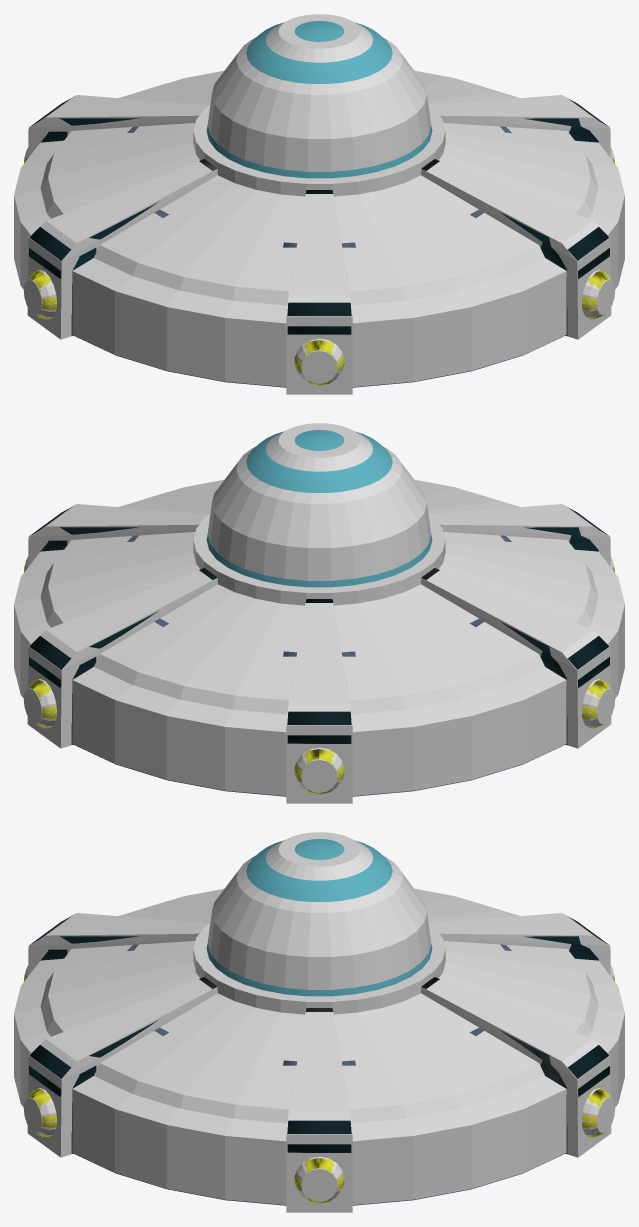
File: Deco_Flying_Saucer.glb
3 renders of one model, top to bottom at view 1: azimuth 30°, elevation 25°; view 2: azimuth 150°, elevation 25°; view 3: azimuth 270°, elevation 25°, orthographic.
Parts seen in each view (by area): view 1: Deco_SoucoupeBal_Collider_ConvexHull_01.001, Deco_SoucoupeBal_Collider_ConvexHull_01, Deco_SoucoupeBal_Collider_ConvexHull_02, Deco_SoucoupeBal_Collider_Compound, Deco_SoucoupeBal_Collider_ConvexHull_08, Deco_SoucoupeBal_Collider_ConvexHull_07, Deco_SoucoupeBal_Collider_ConvexHull_09, Deco_SoucoupeBal_Collider_ConvexHull_04, Deco_SoucoupeBal_Collider_ConvexHull_06, Deco_SoucoupeBal_Collider_ConvexHull_10, Deco_SoucoupeBal_Collider_ConvexHull_12, Deco_SoucoupeBal_Collider_ConvexHull_11 (+1 smaller); view 2: Deco_SoucoupeBal_Collider_ConvexHull_01.001, Deco_SoucoupeBal_Collider_ConvexHull_01, Deco_SoucoupeBal_Collider_ConvexHull_02, Deco_SoucoupeBal_Collider_Compound, Deco_SoucoupeBal_Collider_ConvexHull_06, Deco_SoucoupeBal_Collider_ConvexHull_05, Deco_SoucoupeBal_Collider_ConvexHull_07, Deco_SoucoupeBal_Collider_ConvexHull_04, Deco_SoucoupeBal_Collider_ConvexHull_10, Deco_SoucoupeBal_Collider_ConvexHull_08, Deco_SoucoupeBal_Collider_ConvexHull_16, Deco_SoucoupeBal_Collider_ConvexHull_11 (+1 smaller); view 3: Deco_SoucoupeBal_Collider_ConvexHull_01.001, Deco_SoucoupeBal_Collider_ConvexHull_01, Deco_SoucoupeBal_Collider_ConvexHull_02, Deco_SoucoupeBal_Collider_Compound, Deco_SoucoupeBal_Collider_ConvexHull_10, Deco_SoucoupeBal_Collider_ConvexHull_09, Deco_SoucoupeBal_Collider_ConvexHull_05, Deco_SoucoupeBal_Collider_ConvexHull_04, Deco_SoucoupeBal_Collider_ConvexHull_08, Deco_SoucoupeBal_Collider_ConvexHull_06, Deco_SoucoupeBal_Collider_ConvexHull_13, Deco_SoucoupeBal_Collider_ConvexHull_14 (+1 smaller).
Part boxes in pixels (left/top/right/bottom): Deco_SoucoupeBal_Collider_ConvexHull_01.001: left=40, top=70, right=598, bottom=305; Deco_SoucoupeBal_Collider_ConvexHull_01: left=14, top=83, right=624, bottom=386; Deco_SoucoupeBal_Collider_ConvexHull_02: left=207, top=14, right=431, bottom=171; Deco_SoucoupeBal_Collider_Compound: left=24, top=21, right=614, bottom=387; Deco_SoucoupeBal_Collider_ConvexHull_08: left=286, top=190, right=352, bottom=394; Deco_SoucoupeBal_Collider_ConvexHull_07: left=27, top=161, right=217, bottom=339; Deco_SoucoupeBal_Collider_ConvexHull_09: left=421, top=161, right=611, bottom=339; Deco_SoucoupeBal_Collider_ConvexHull_04: left=193, top=105, right=445, bottom=196; Deco_SoucoupeBal_Collider_ConvexHull_06: left=28, top=95, right=208, bottom=157; Deco_SoucoupeBal_Collider_ConvexHull_10: left=430, top=95, right=610, bottom=157; Deco_SoucoupeBal_Collider_ConvexHull_12: left=294, top=338, right=344, bottom=385; Deco_SoucoupeBal_Collider_ConvexHull_11: left=23, top=270, right=56, bottom=318; Deco_SoucoupeBal_Collider_ConvexHull_01.001: left=40, top=479, right=598, bottom=714; Deco_SoucoupeBal_Collider_ConvexHull_01: left=14, top=492, right=624, bottom=795; Deco_SoucoupeBal_Collider_ConvexHull_02: left=207, top=423, right=431, bottom=580; Deco_SoucoupeBal_Collider_Compound: left=24, top=430, right=614, bottom=796; Deco_SoucoupeBal_Collider_ConvexHull_06: left=286, top=599, right=352, bottom=803; Deco_SoucoupeBal_Collider_ConvexHull_05: left=27, top=570, right=217, bottom=748; Deco_SoucoupeBal_Collider_ConvexHull_07: left=421, top=570, right=611, bottom=748; Deco_SoucoupeBal_Collider_ConvexHull_04: left=193, top=514, right=445, bottom=605; Deco_SoucoupeBal_Collider_ConvexHull_10: left=28, top=504, right=208, bottom=566; Deco_SoucoupeBal_Collider_ConvexHull_08: left=430, top=504, right=610, bottom=566; Deco_SoucoupeBal_Collider_ConvexHull_16: left=294, top=747, right=344, bottom=794; Deco_SoucoupeBal_Collider_ConvexHull_11: left=582, top=679, right=615, bottom=727; Deco_SoucoupeBal_Collider_ConvexHull_01.001: left=40, top=888, right=598, bottom=1123; Deco_SoucoupeBal_Collider_ConvexHull_01: left=14, top=901, right=624, bottom=1204; Deco_SoucoupeBal_Collider_ConvexHull_02: left=207, top=832, right=431, bottom=989; Deco_SoucoupeBal_Collider_Compound: left=24, top=839, right=614, bottom=1205; Deco_SoucoupeBal_Collider_ConvexHull_10: left=286, top=1008, right=352, bottom=1212; Deco_SoucoupeBal_Collider_ConvexHull_09: left=27, top=979, right=217, bottom=1157; Deco_SoucoupeBal_Collider_ConvexHull_05: left=421, top=979, right=611, bottom=1157; Deco_SoucoupeBal_Collider_ConvexHull_04: left=193, top=923, right=445, bottom=1014; Deco_SoucoupeBal_Collider_ConvexHull_08: left=28, top=913, right=208, bottom=975; Deco_SoucoupeBal_Collider_ConvexHull_06: left=430, top=913, right=610, bottom=975; Deco_SoucoupeBal_Collider_ConvexHull_13: left=294, top=1156, right=344, bottom=1203; Deco_SoucoupeBal_Collider_ConvexHull_14: left=23, top=1088, right=56, bottom=1136.
Bounding box in the file's own units: 8.08 × 3.45 × 7.46.
